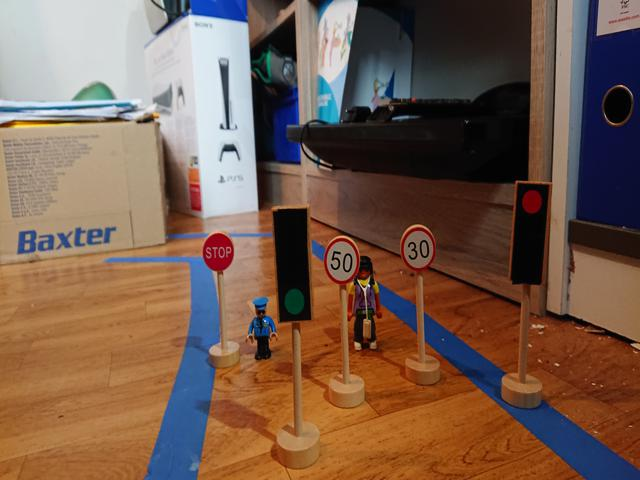30 speed sign: (401, 227, 435, 271)
50 speed sign: (324, 238, 358, 282)
green light: (276, 209, 307, 320)
person: (346, 254, 384, 350), (242, 296, 279, 362)
red light: (513, 183, 544, 273)
stop sign: (201, 231, 236, 272)
